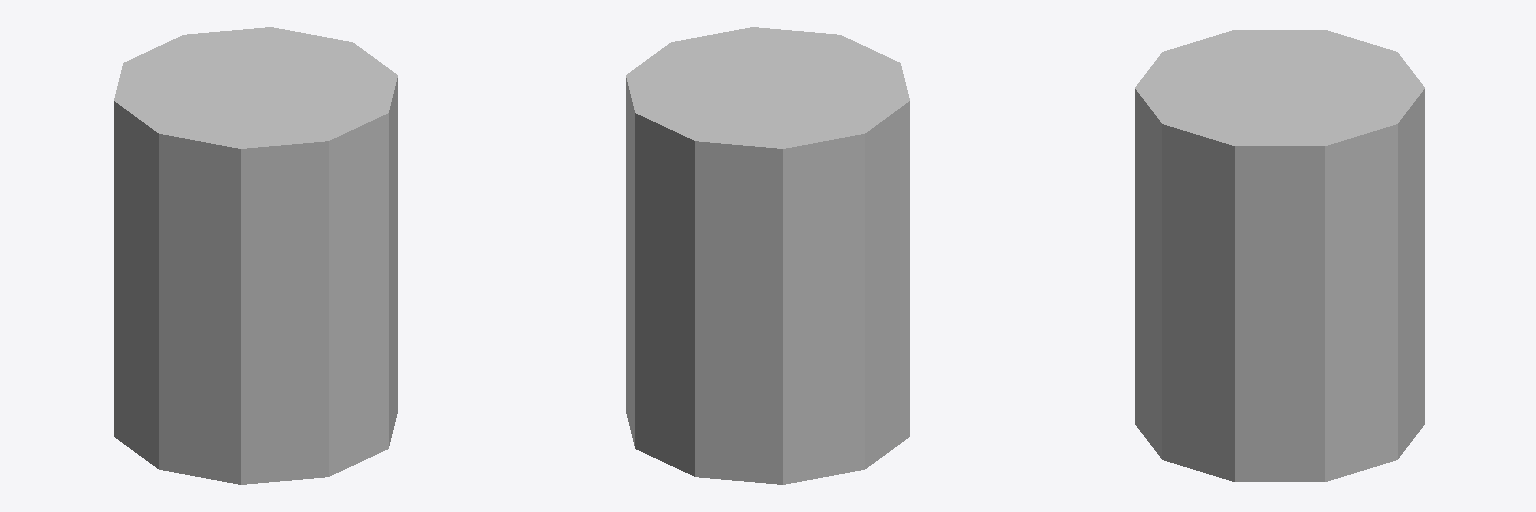
Rendered from 132_col.obj.
3 renders of one model, left to right at view 1: azimuth 30°, elevation 25°; view 2: azimuth 150°, elevation 25°; view 3: azimuth 270°, elevation 25°, orthographic.
Visible parts, largest first — view 1: Cylinder_Cylinder.007; view 2: Cylinder_Cylinder.007; view 3: Cylinder_Cylinder.007.
Boxes of the visible parts, x1=… form: Cylinder_Cylinder.007: x1=114, y1=27, x2=397, y2=484; Cylinder_Cylinder.007: x1=626, y1=27, x2=909, y2=484; Cylinder_Cylinder.007: x1=1135, y1=30, x2=1424, y2=481.
Bounding box in the file's own units: 1.6 × 2.14 × 1.68.